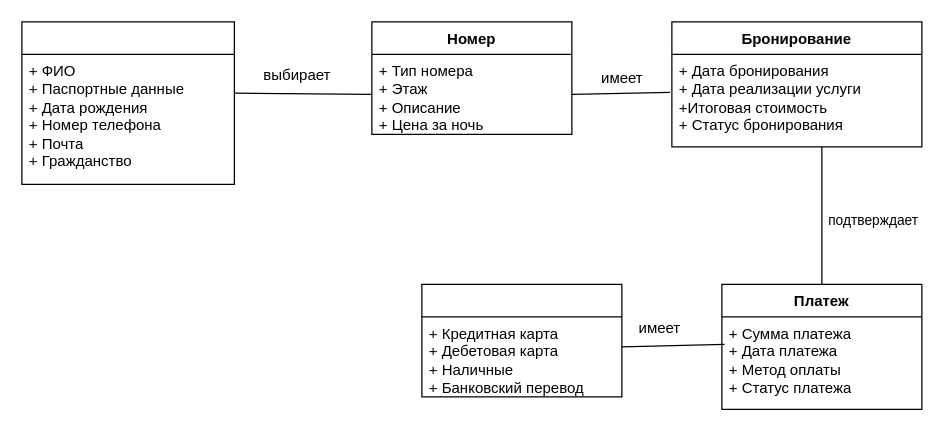
This 944x435 diagram has some shape labels left out. Each missing label, with the box of its shape:
Гость: (21, 21, 234, 184)
Способ оплаты: (421, 283, 622, 397)
